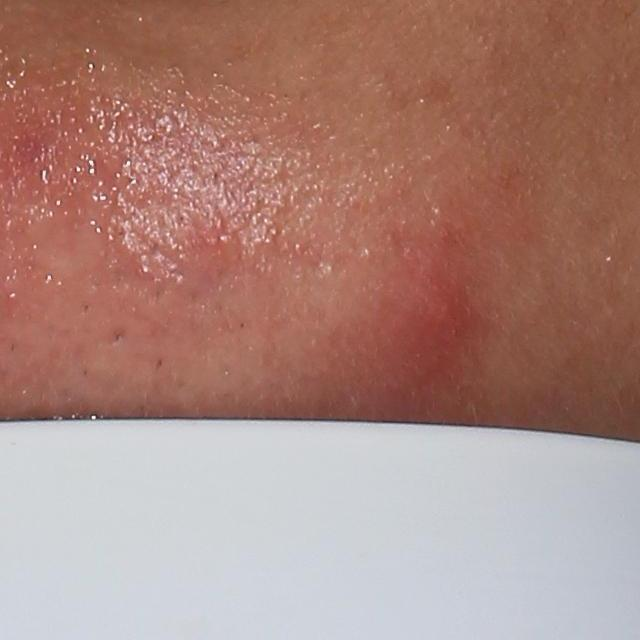nodule: (376, 224, 499, 409)
